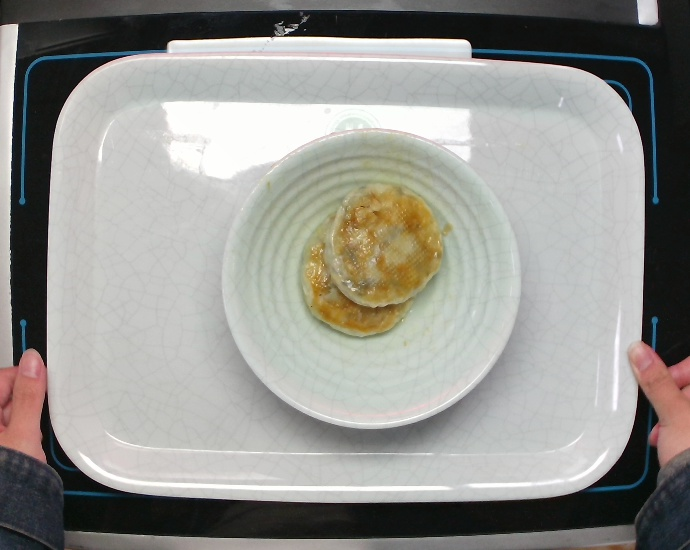JYsf-Xiao_Tang_Wan: (210, 120, 529, 438)
